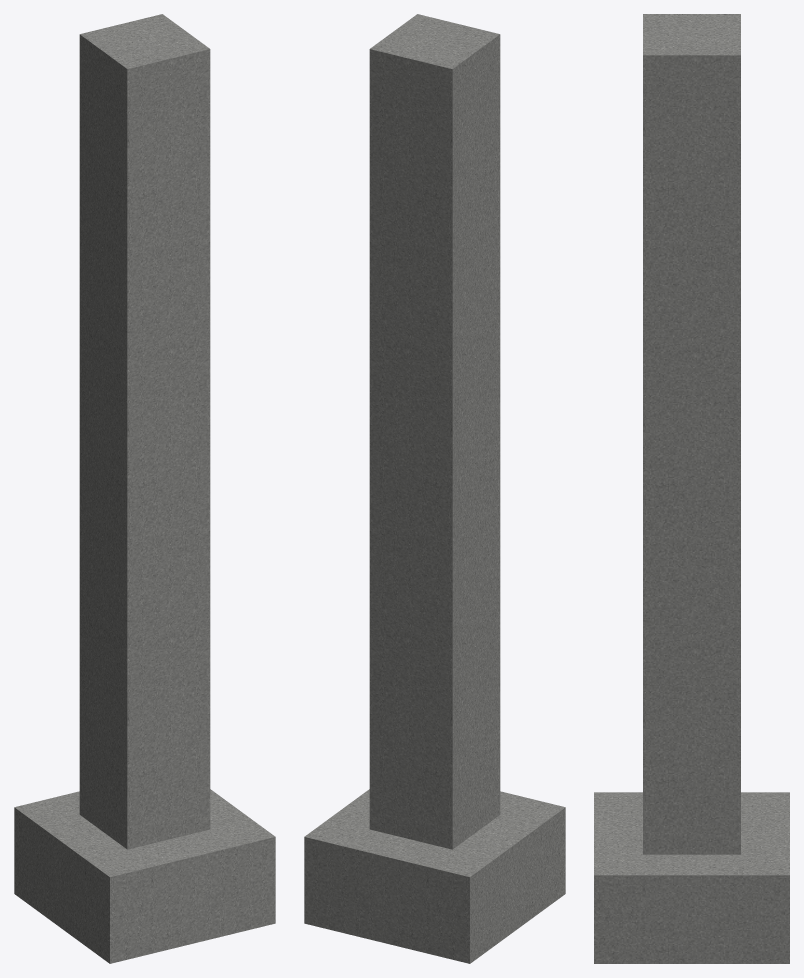
File: estate_pillar_2f.glb
3 views of the same model, side by side, from view 1: azimuth 30°, elevation 25°; view 2: azimuth 150°, elevation 25°; view 3: azimuth 270°, elevation 25° (orthographic). The views are drawn at different scales.
Visible parts, largest first — view 1: Cube.001, Cube; view 2: Cube.001, Cube; view 3: Cube.001, Cube.
Boxes of the visible parts, x1,y1,x2,y2 form: Cube.001: [79, 14, 210, 849]; Cube: [14, 789, 275, 963]; Cube.001: [369, 14, 500, 849]; Cube: [304, 789, 565, 963]; Cube.001: [643, 14, 740, 854]; Cube: [594, 792, 789, 963].
Size of the model in its own units: 0.6 by 3 by 0.6.
Materials: 1 (1 with a texture image).
